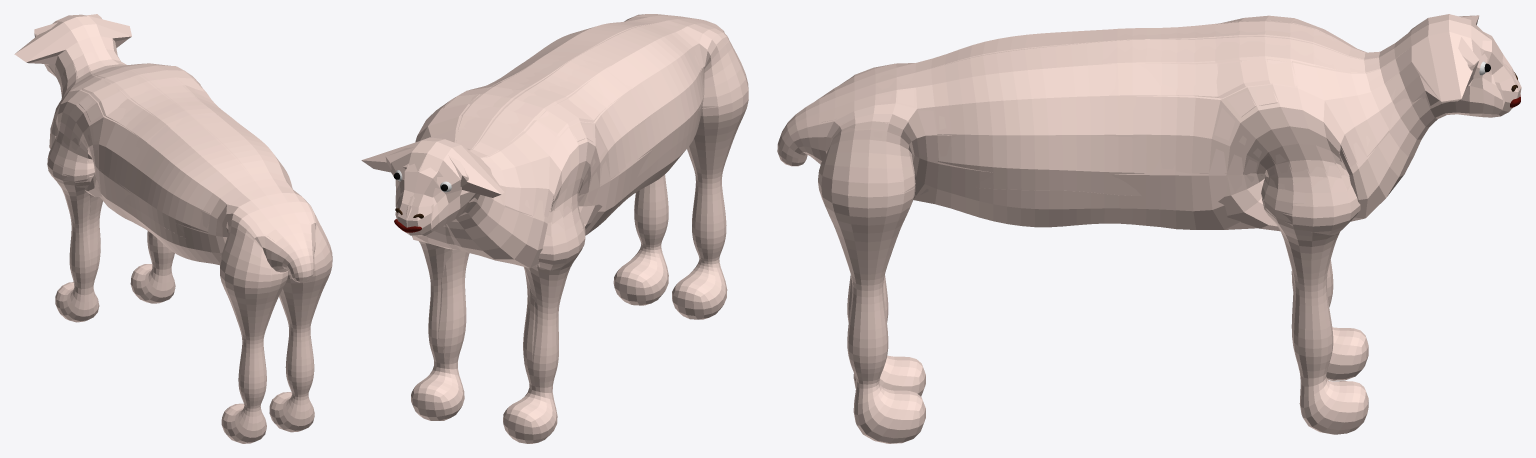
The model's file is sheep sprite.fbx.
The picture shows the model from 3 angles, left to right: view 1: azimuth 30°, elevation 25°; view 2: azimuth 150°, elevation 25°; view 3: azimuth 270°, elevation 25°; orthographic projection. The views are drawn at different scales.
Parts seen in each view (by area): view 1: Plane.001; view 2: Plane.001; view 3: Plane.001.
Part boxes in pixels (x1,y1,x2,y2): Plane.001: (14, 14, 332, 443); Plane.001: (361, 14, 748, 443); Plane.001: (777, 14, 1521, 443).
Bounding box in the file's own units: 169 × 319 × 533.
